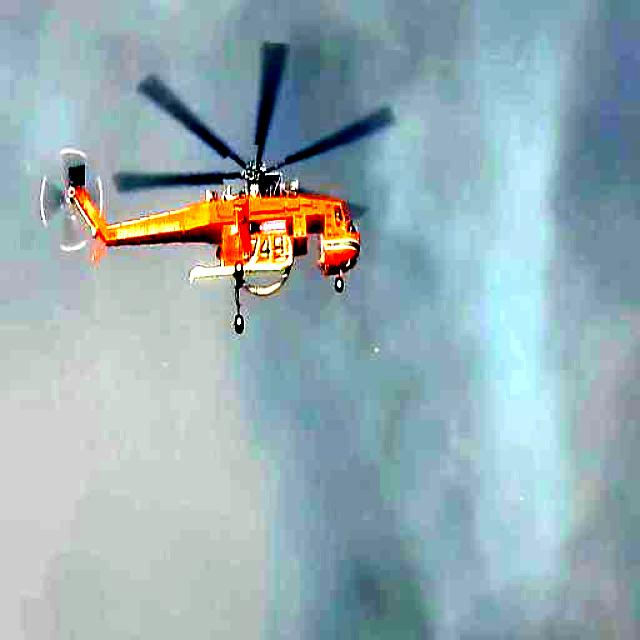drone: (38, 32, 398, 339)
